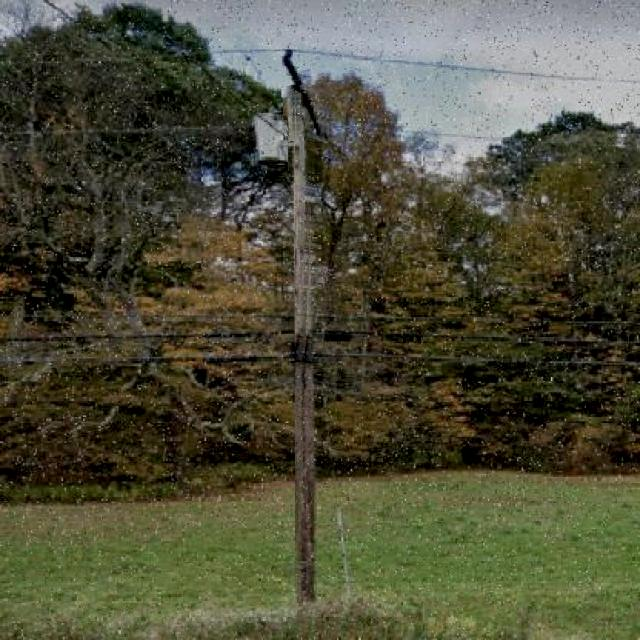crossarm: (283, 49, 327, 141)
pole: (295, 91, 307, 604)
transformer: (253, 113, 288, 176)
wire: (182, 50, 639, 85)
